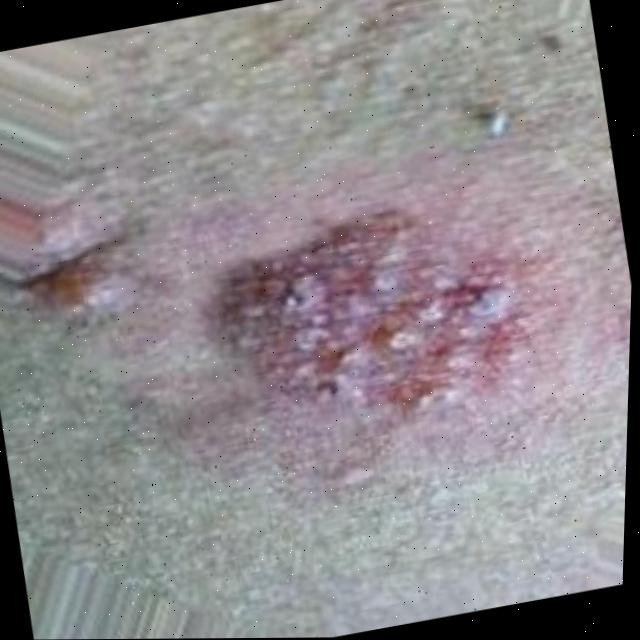Shingles: (219, 195, 533, 419)
